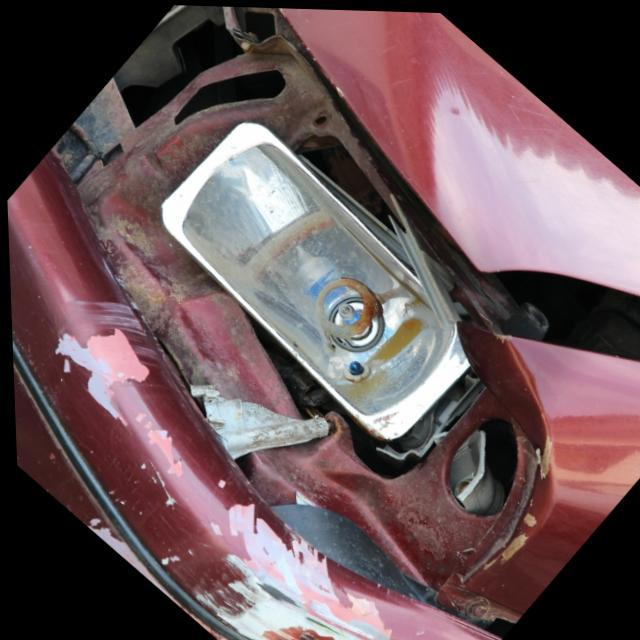dislocated part: (478, 262, 640, 370)
lamp broken: (53, 4, 532, 600)
scratch: (42, 286, 401, 640)
